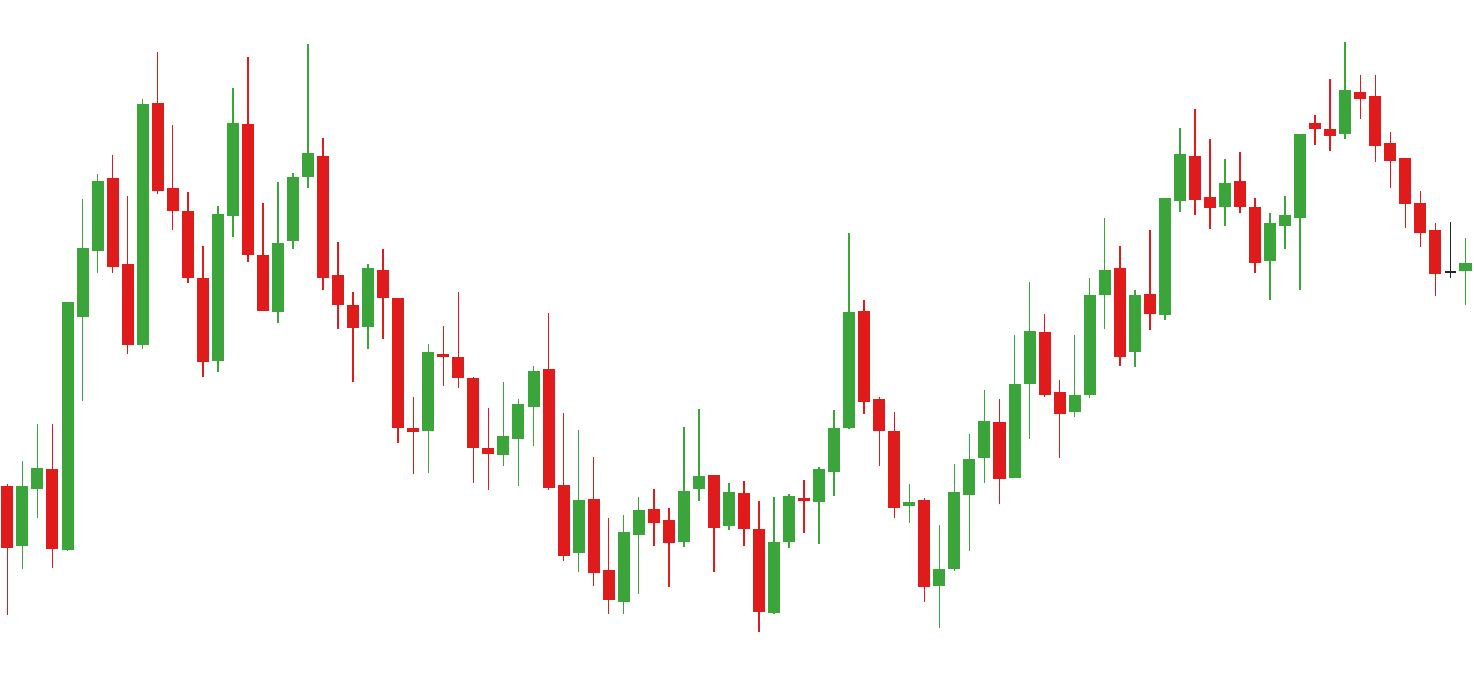buy: (798, 393, 962, 644), (661, 480, 783, 636)
sell: (226, 48, 313, 271)
